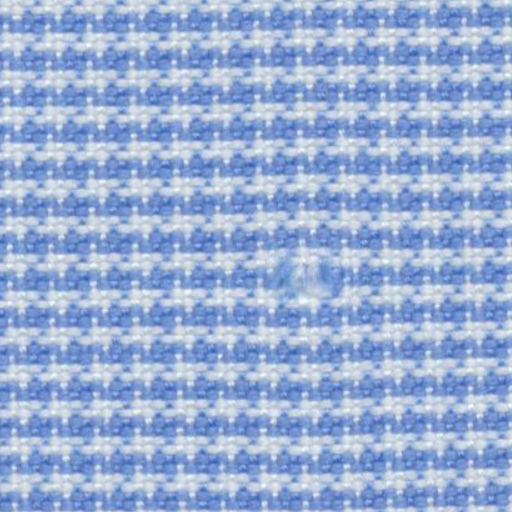PoDong: (246, 238, 376, 327)
